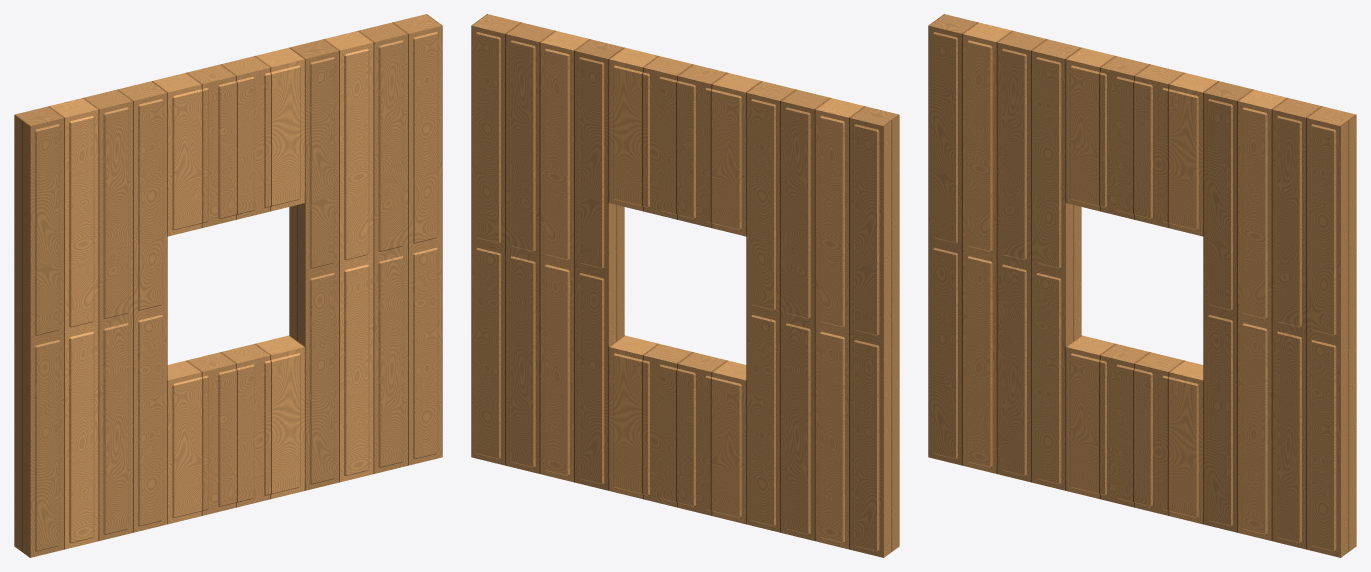
The model's file is Kit_Wood_WallWindow.fbx.
The picture shows the model from 3 angles, left to right: view 1: azimuth 30°, elevation 25°; view 2: azimuth 150°, elevation 25°; view 3: azimuth 330°, elevation 25°; orthographic projection.
Parts seen in each view (by area): view 1: Kit_Wood_WallWindow_LOD0; view 2: Kit_Wood_WallWindow_LOD0; view 3: Kit_Wood_WallWindow_LOD0.
Boxes of the visible parts, box(x1,y1,x2,y2) form: Kit_Wood_WallWindow_LOD0: box(14, 14, 442, 557); Kit_Wood_WallWindow_LOD0: box(471, 14, 899, 557); Kit_Wood_WallWindow_LOD0: box(928, 14, 1356, 557).
Size of what is drawn, in the model's own units: 3 by 3 by 0.22.
